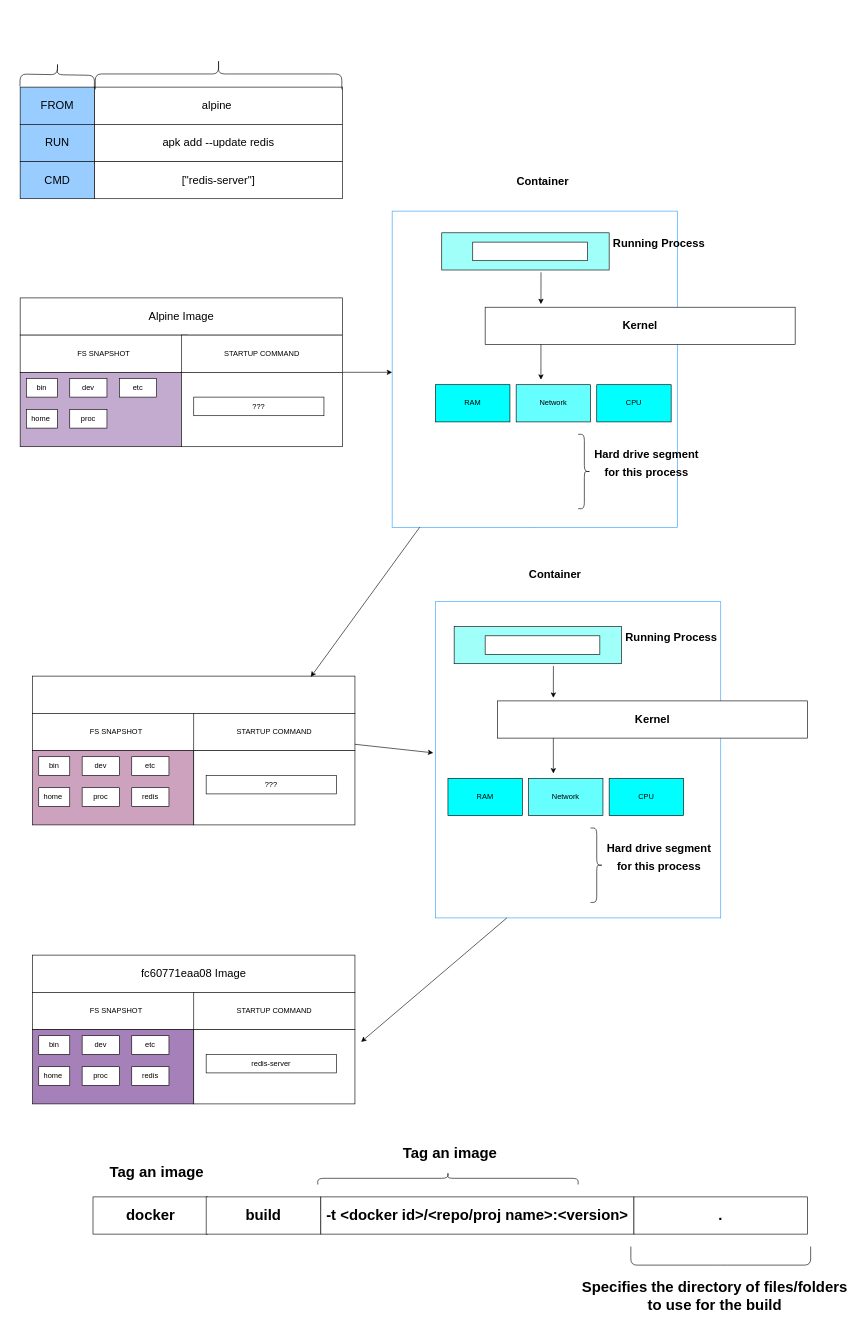
The diagram is 858 pixels wide and 1324 high, and some of its shapes have lost their labels. The shapes that lost their labels are listed below. From the top down, each one's centre as x and y in pixels, then its label:
[57,74]: Instruction telling Docker Server what to do
[218,73]: Argument to the instruction
[193,694]: 38ec9ae7e10 Image
